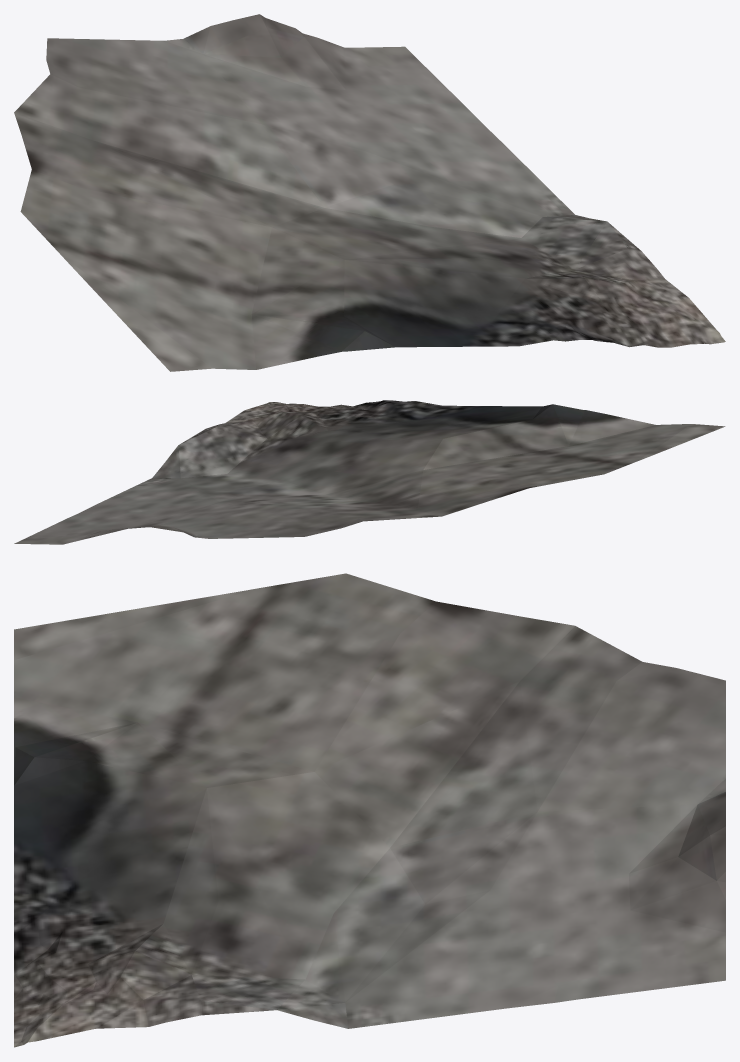
The picture shows the model from 3 angles, top to bottom: view 1: azimuth 30°, elevation 25°; view 2: azimuth 150°, elevation 25°; view 3: azimuth 270°, elevation 25°; orthographic projection. The views are drawn at different scales.
Bounding box in the file's own units: 0.8374 × 0.2249 × 0.8373.
2 materials, 2 textured.
